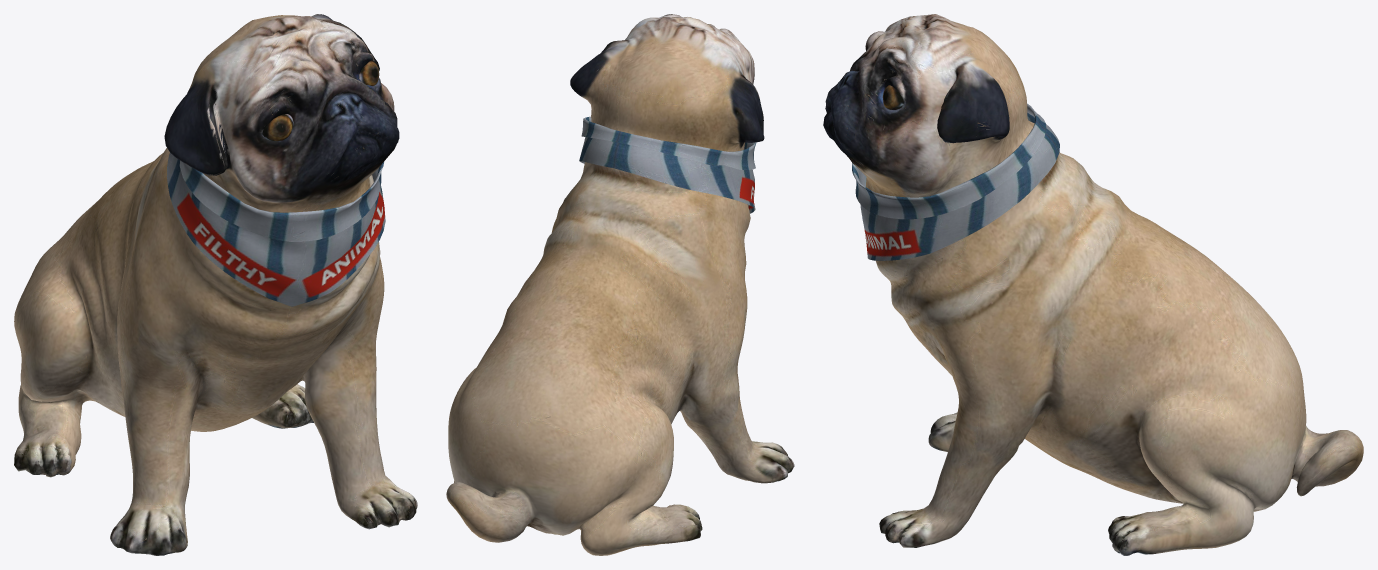
File: perro_pug_sentado_01.glb
The picture shows the model from 3 angles, left to right: view 1: azimuth 30°, elevation 25°; view 2: azimuth 150°, elevation 25°; view 3: azimuth 270°, elevation 25°; orthographic projection. The views are drawn at different scales.
Visible parts, largest first — view 1: Object_2; view 2: Object_2; view 3: Object_2.
Part boxes in pixels (x1=…): Object_2: x1=14, y1=14, x2=417, y2=555; Object_2: x1=446, y1=14, x2=794, y2=555; Object_2: x1=823, y1=14, x2=1363, y2=555.
Size of the model in its own units: 0.5016 by 0.8287 by 0.8525.
1 material, 1 textured.
